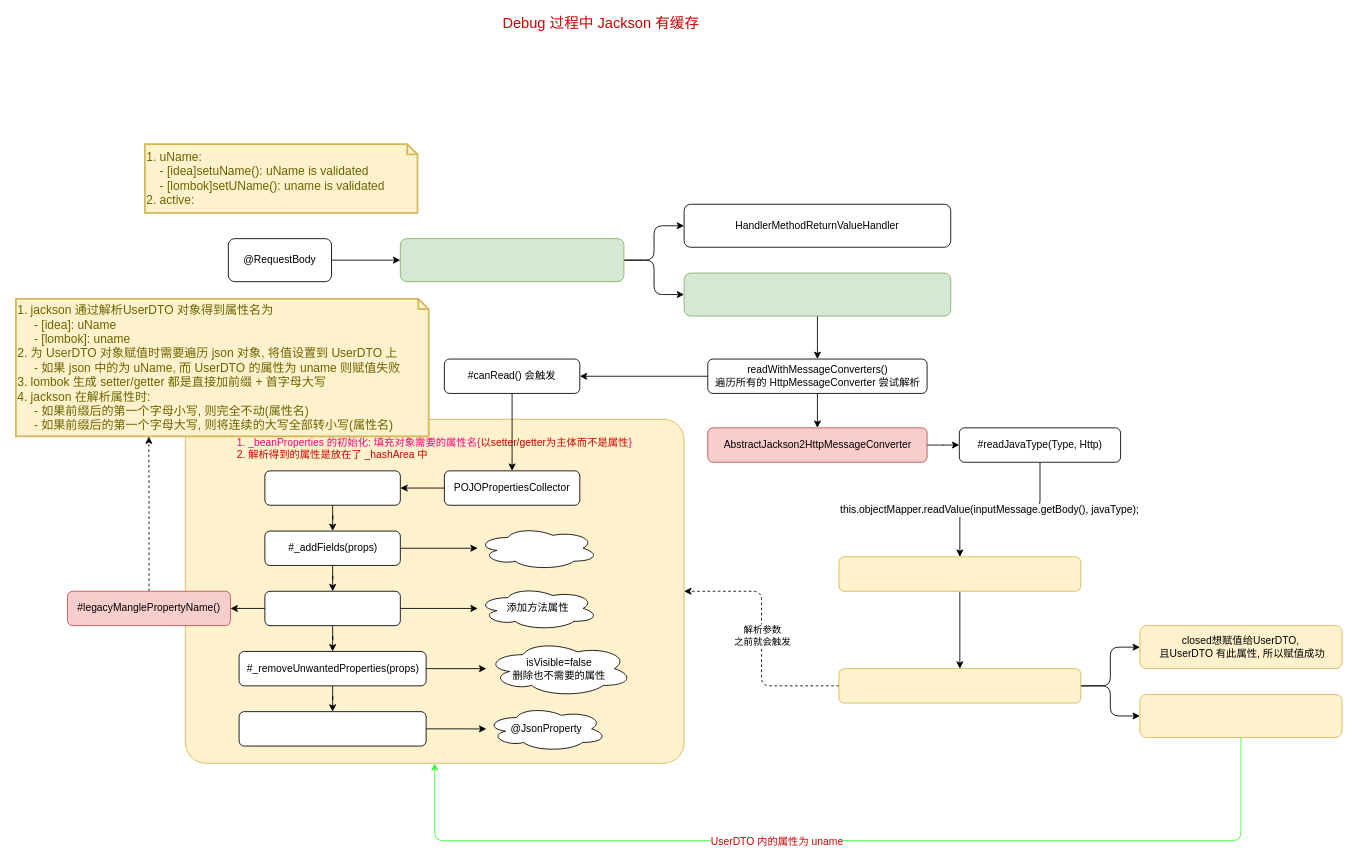
The diagram is 1357 pixels wide and 863 high, and some of its shapes have lost their labels. The centre of each missing label's shape, as x and y in pixels:
"#_addMethods(props)" goes at point (332, 608).
"#_renameProperties(props)" goes at point (332, 728).
"#collectAll()" goes at point (332, 487).
"_beanProperties.find(propName); http 中带来的参数想赋值给对象" goes at point (959, 685).
"AbstractMessageConverterMethodArgumentResolver" goes at point (817, 294).
"BeanDeserializer#deserializeFromObject()" goes at point (959, 573).
"RequestResponseBodyMethodProcessor" goes at point (511, 260).
"uName 想赋值给UserDTO, 但是UserDTO 没有叫 uName 的属性, 所以赋值忽略" goes at point (1240, 715).
"添加属性" goes at point (537, 548).
